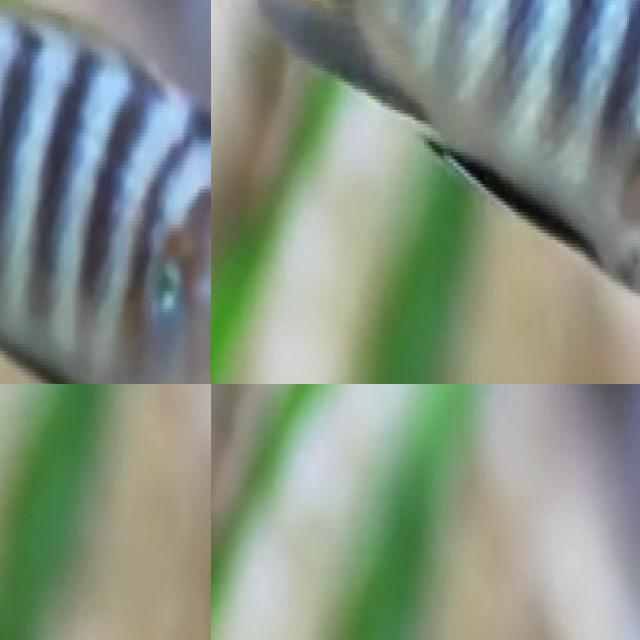fish: (211, 0, 640, 321), (0, 0, 211, 384)
